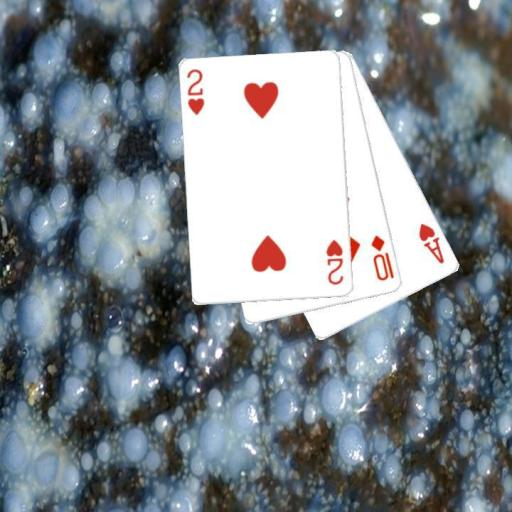10D: (368, 232, 396, 283)
2H: (324, 236, 346, 287), (184, 66, 206, 117)
AH: (416, 220, 447, 266)
